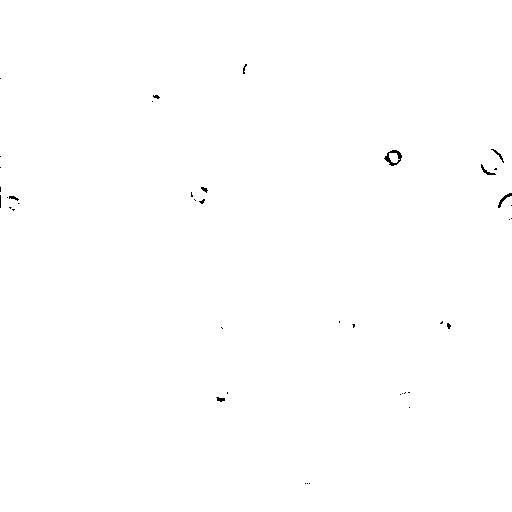micro-algae: (273, 290, 404, 413), (389, 73, 467, 151), (467, 342, 511, 402), (360, 19, 404, 57), (201, 181, 232, 213), (427, 311, 458, 341), (476, 145, 505, 175), (294, 481, 323, 505), (240, 57, 262, 84), (390, 391, 417, 411), (495, 190, 512, 221), (337, 310, 357, 331), (381, 148, 403, 167), (2, 193, 23, 210), (214, 383, 230, 403), (191, 185, 207, 203), (189, 433, 204, 448)
